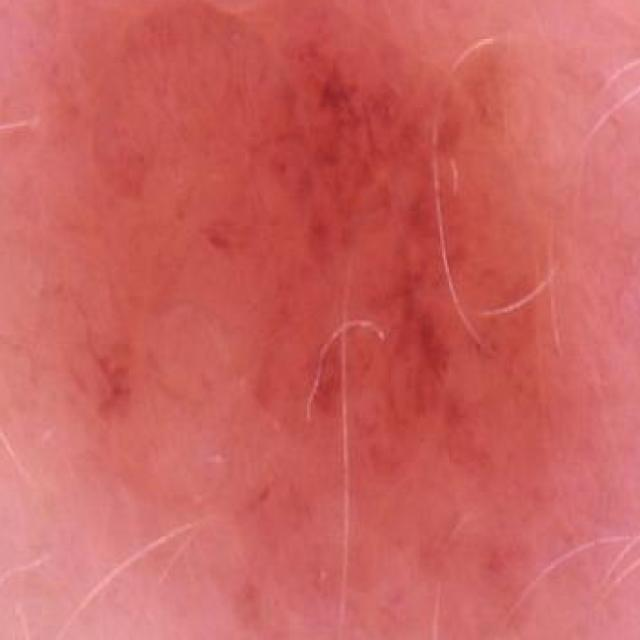NV: (0, 0, 613, 559)
